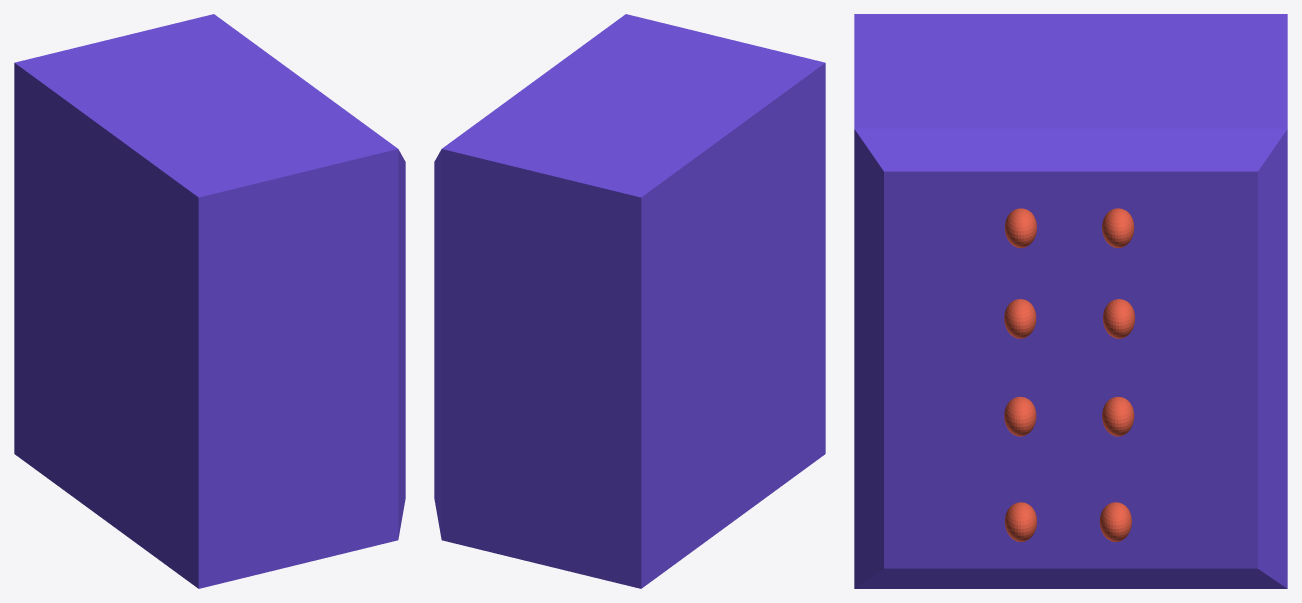
File: OfficeDrawer.fbx
The picture shows the model from 3 angles, left to right: view 1: azimuth 30°, elevation 25°; view 2: azimuth 150°, elevation 25°; view 3: azimuth 270°, elevation 25°; orthographic projection. The views are drawn at different scales.
Visible parts, largest first — view 1: Dresser.001; view 2: Dresser.001; view 3: Dresser.001.
Boxes of the visible parts, x1,y1,x2,y2 form: Dresser.001: [14, 14, 405, 588]; Dresser.001: [434, 14, 825, 588]; Dresser.001: [854, 14, 1287, 588].
Bounding box in the file's own units: 76.78 × 118 × 101.
